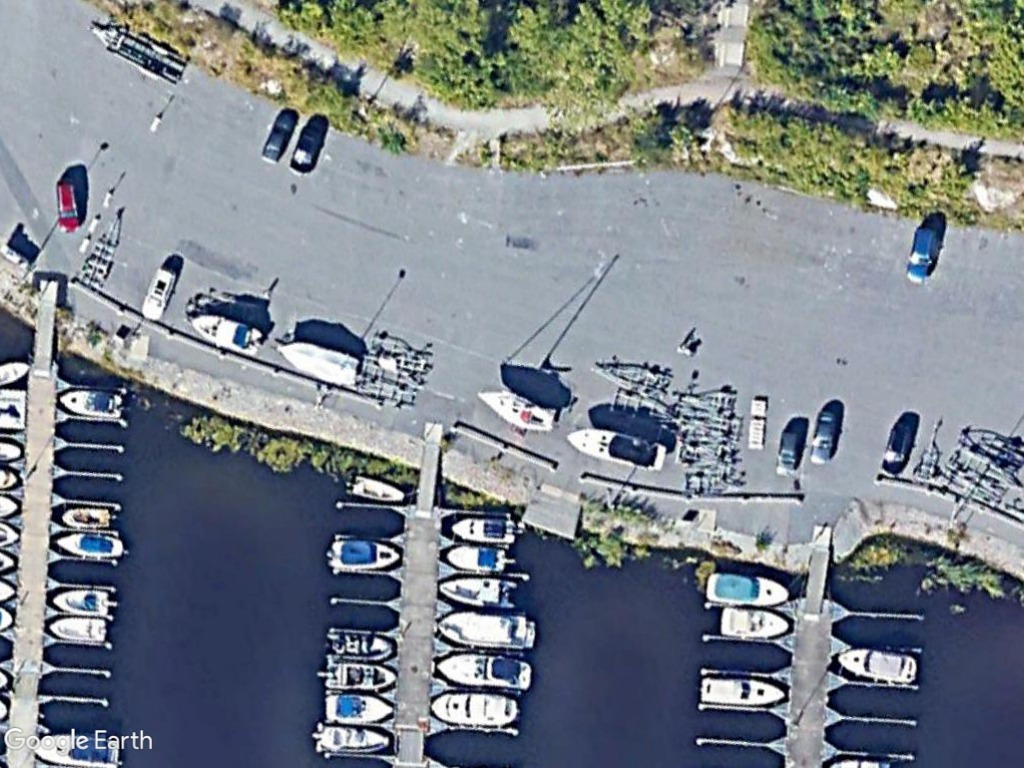boat: (564, 423, 670, 474), (275, 336, 363, 390), (433, 648, 533, 694), (433, 606, 537, 650), (474, 386, 560, 436), (427, 686, 521, 730), (188, 310, 267, 362), (833, 645, 923, 687), (695, 671, 789, 711), (432, 573, 524, 612), (309, 717, 394, 759), (701, 570, 795, 607), (319, 656, 402, 696), (717, 597, 794, 639), (319, 686, 395, 726), (50, 526, 128, 563), (327, 537, 403, 574), (323, 629, 400, 665), (450, 512, 520, 547), (442, 539, 511, 573), (57, 387, 126, 420), (347, 470, 409, 506), (45, 611, 110, 645), (48, 587, 113, 620), (59, 505, 117, 532)
car: (257, 109, 299, 167), (903, 222, 941, 286), (878, 418, 917, 475), (290, 119, 329, 175), (806, 406, 839, 465), (53, 178, 86, 234), (775, 423, 807, 473)
van: (138, 261, 178, 324)
